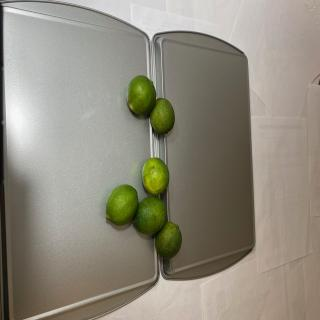Lemon: (105, 184, 138, 226), (134, 196, 167, 235), (126, 75, 156, 115), (155, 222, 182, 260), (142, 157, 169, 195), (150, 98, 175, 134)
